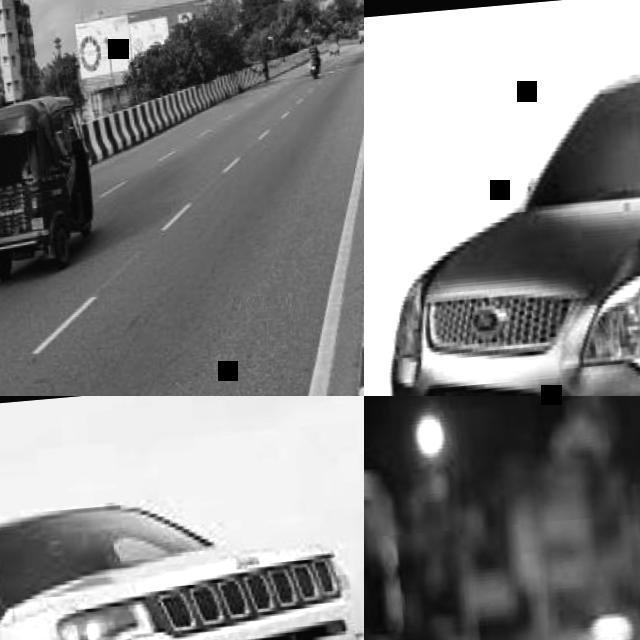car: (0, 18, 96, 279)
